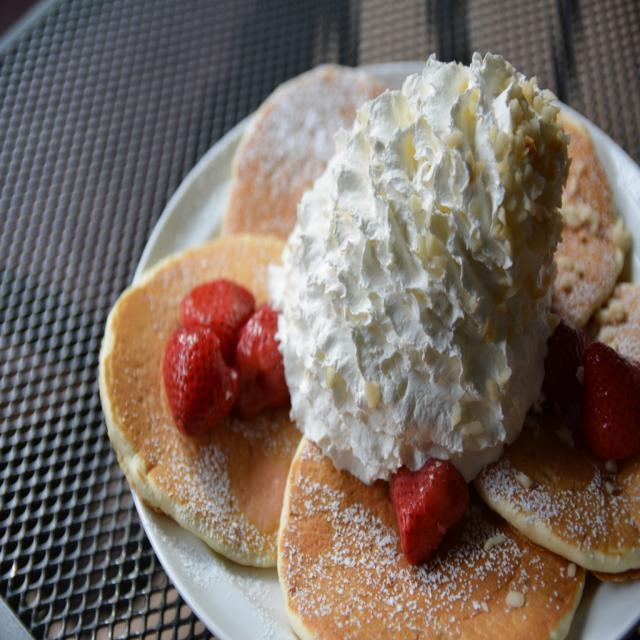Pancake: (89, 255, 329, 593), (472, 112, 640, 575), (277, 433, 586, 639), (223, 65, 396, 241)
